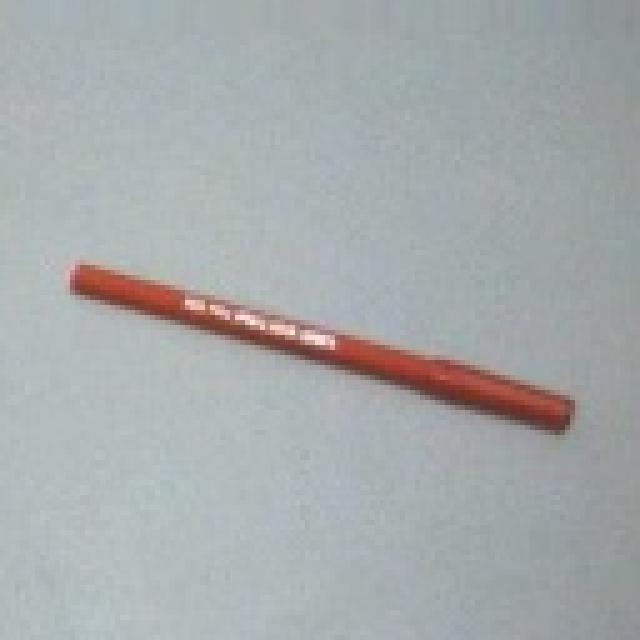pen: (60, 252, 587, 445)
